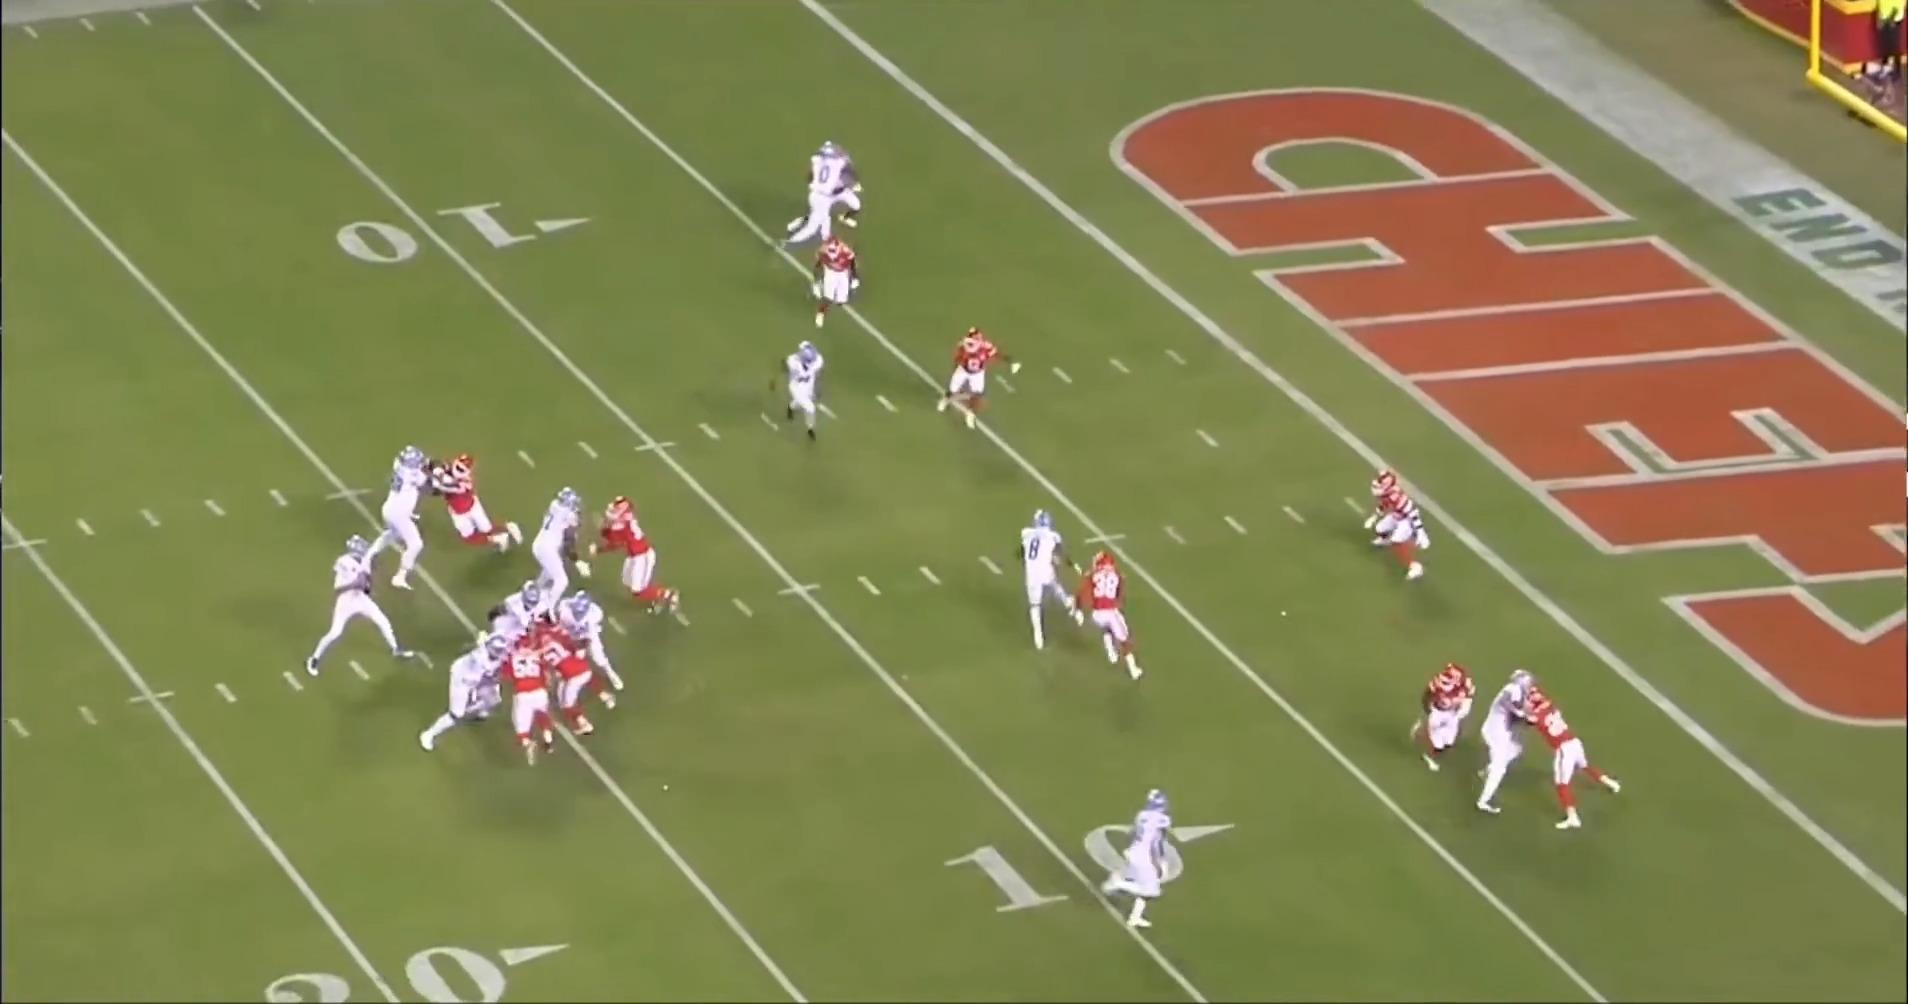defense: (1526, 685, 1616, 835), (593, 493, 688, 618), (423, 449, 517, 556), (943, 324, 1027, 436), (1083, 546, 1148, 685), (1368, 472, 1440, 590), (1407, 663, 1478, 778), (534, 632, 604, 747), (507, 633, 565, 767), (801, 230, 863, 328), (821, 135, 864, 228)
oline: (415, 629, 521, 758), (362, 440, 443, 593), (556, 588, 626, 711), (522, 483, 591, 597), (483, 578, 550, 637)
qb: (295, 531, 414, 677)
skill: (1012, 498, 1088, 647), (1112, 786, 1184, 932), (1469, 670, 1533, 820), (782, 136, 864, 251), (775, 336, 842, 443)
